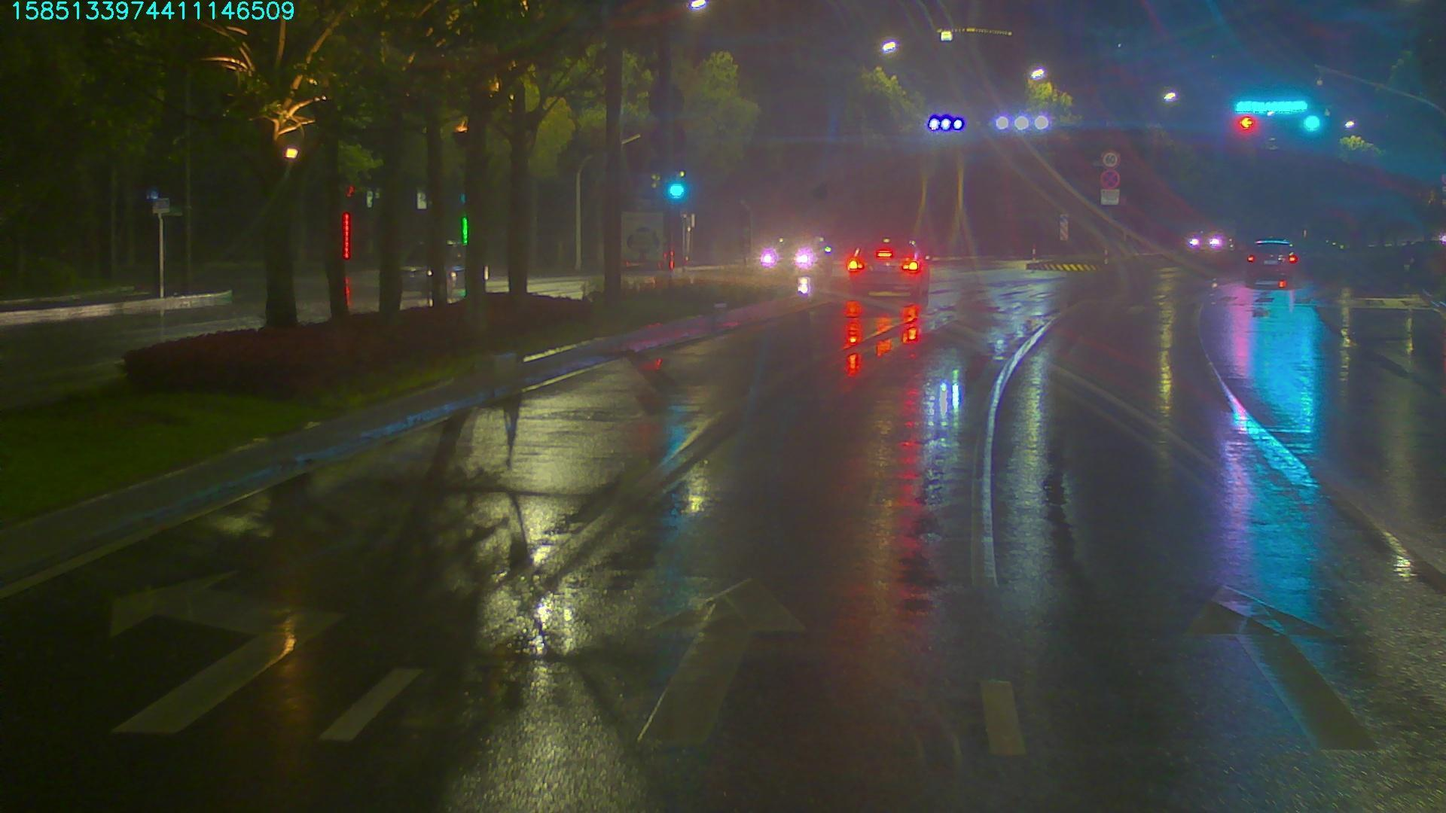green: (1307, 115, 1324, 129)
red: (1237, 116, 1260, 129)
wait_on: (1234, 98, 1307, 115)
